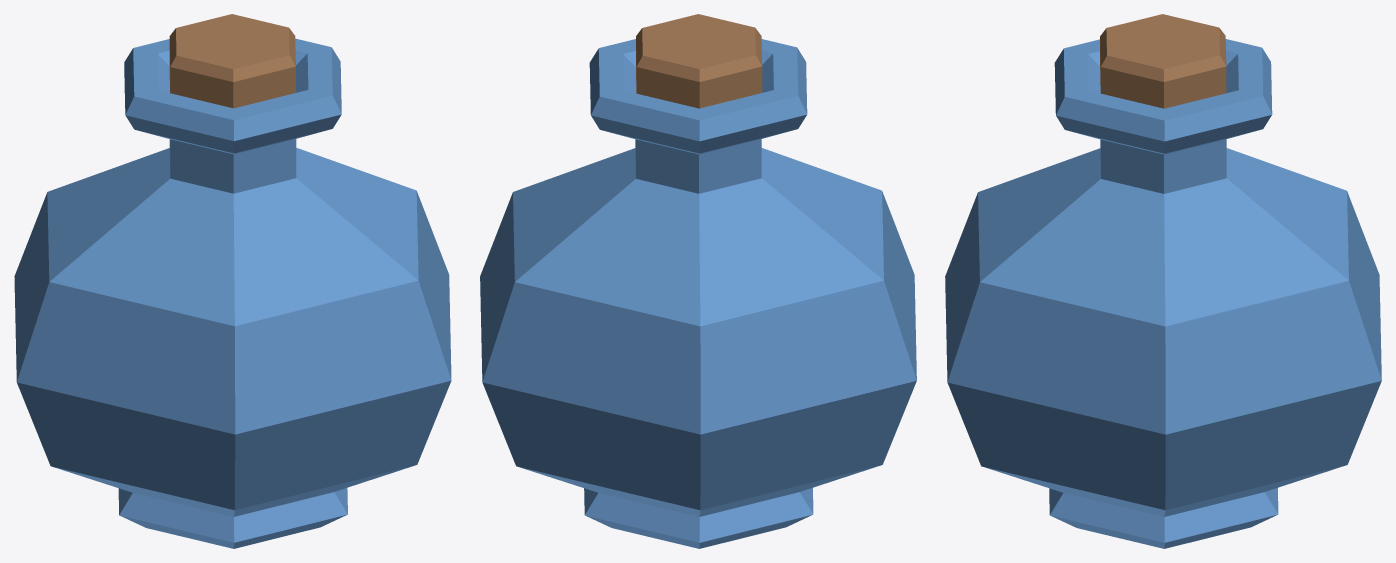
File: Blue_Potion_15.fbx
3 renders of one model, left to right at view 1: azimuth 30°, elevation 25°; view 2: azimuth 150°, elevation 25°; view 3: azimuth 270°, elevation 25°, orthographic.
Visible parts, largest first — view 1: Blue_Potion_15; view 2: Blue_Potion_15; view 3: Blue_Potion_15.
Boxes of the visible parts, x1,y1,x2,y2 form: Blue_Potion_15: (14, 14, 451, 548); Blue_Potion_15: (480, 14, 916, 548); Blue_Potion_15: (945, 14, 1381, 548).
Size of the model in its own units: 20.32 by 20.77 by 17.69.
